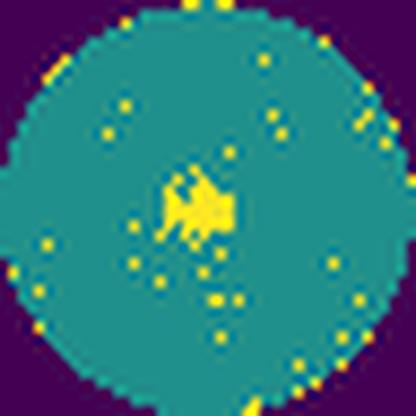Center: (162, 160, 235, 252)
